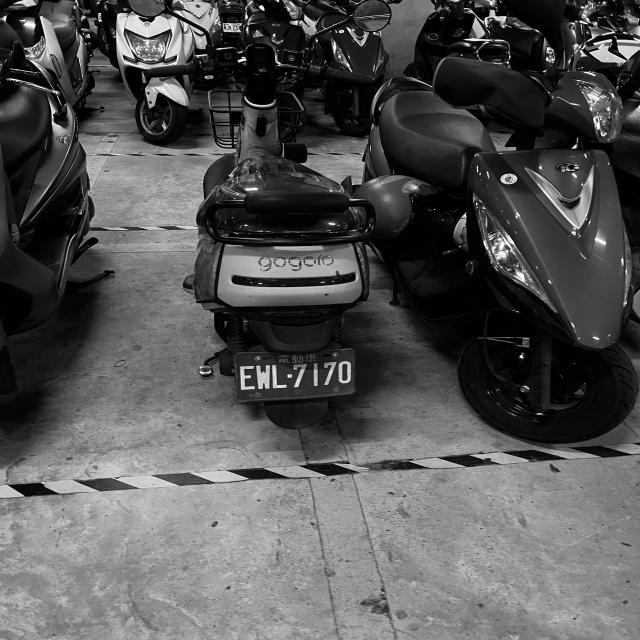-: (285, 372, 293, 378)
0: (339, 361, 352, 384)
1: (311, 362, 319, 386)
7: (321, 362, 337, 386), (293, 363, 308, 388)
F: (239, 364, 254, 388)
L: (271, 364, 287, 389)
W: (255, 364, 271, 390)
plate: (236, 350, 357, 402)
